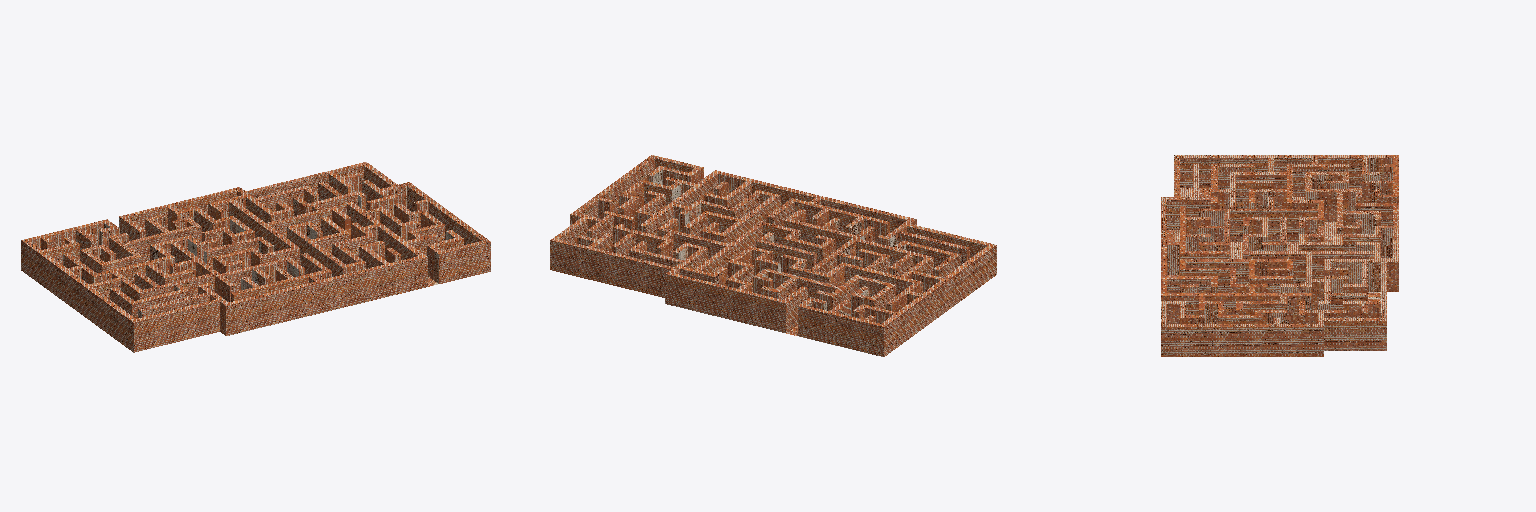
3 renders of one model, left to right at view 1: azimuth 30°, elevation 25°; view 2: azimuth 150°, elevation 25°; view 3: azimuth 270°, elevation 25°, orthographic.
Parts seen in each view (by area): view 1: LABIRINTO; view 2: LABIRINTO; view 3: LABIRINTO.
Boxes of the visible parts, <box> form: LABIRINTO: <box>21,162,490,352</box>; LABIRINTO: <box>550,155,996,356</box>; LABIRINTO: <box>1161,155,1398,356</box>.
Size of the model in its own units: 14.77 by 1.21 by 8.66.
Materials: 1 (1 with a texture image).